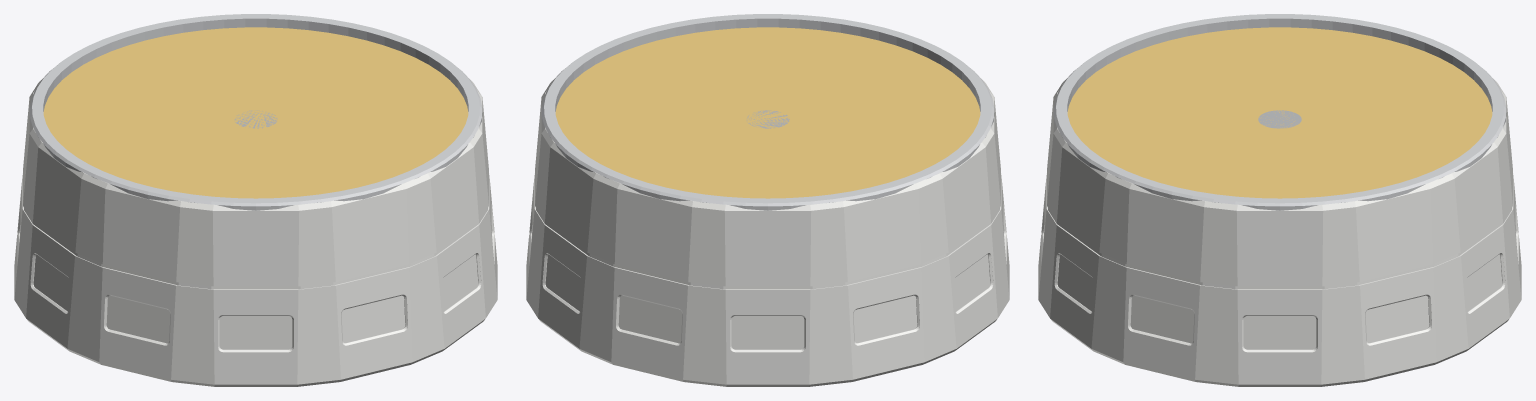
Rendered from ax_prop_20_thrust_structure_l_x4.glb.
The picture shows the model from 3 angles, left to right: view 1: azimuth 30°, elevation 25°; view 2: azimuth 150°, elevation 25°; view 3: azimuth 270°, elevation 25°; orthographic projection.
Visible parts, largest first — view 1: skirt, mli_floor, interface_ring, thrust_beams; view 2: skirt, mli_floor, interface_ring, thrust_beams; view 3: skirt, mli_floor, interface_ring, thrust_beams.
Boxes of the visible parts, box(x1,y1,x2,y2) form: skirt: box(14, 78, 497, 386); mli_floor: box(43, 27, 468, 198); interface_ring: box(29, 14, 482, 210); thrust_beams: box(234, 110, 277, 128); skirt: box(526, 78, 1009, 386); mli_floor: box(555, 27, 980, 198); interface_ring: box(541, 14, 994, 210); thrust_beams: box(746, 110, 789, 128); skirt: box(1038, 78, 1521, 386); mli_floor: box(1067, 27, 1492, 198); interface_ring: box(1053, 14, 1506, 210); thrust_beams: box(1258, 110, 1301, 128).
Size of the model in its own units: 4 by 1.62 by 4.
